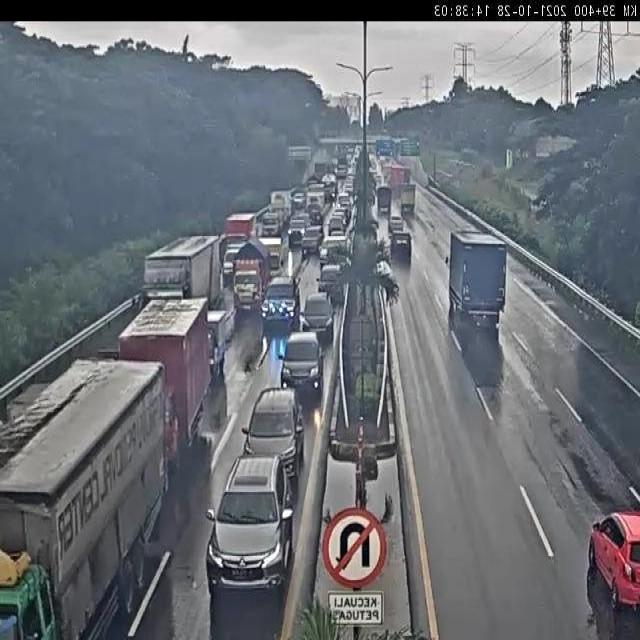Car: (210, 446, 298, 596), (241, 386, 306, 484), (587, 512, 640, 612), (279, 330, 323, 397), (262, 276, 300, 335), (300, 290, 335, 343), (388, 220, 412, 262), (318, 263, 344, 301), (222, 245, 245, 284), (288, 212, 310, 246), (300, 225, 323, 257), (389, 214, 404, 235)
Truck: (0, 362, 168, 636), (118, 298, 214, 470), (134, 231, 220, 308), (448, 233, 506, 316), (230, 237, 265, 309), (220, 212, 258, 248), (398, 182, 419, 215), (375, 185, 396, 218)
